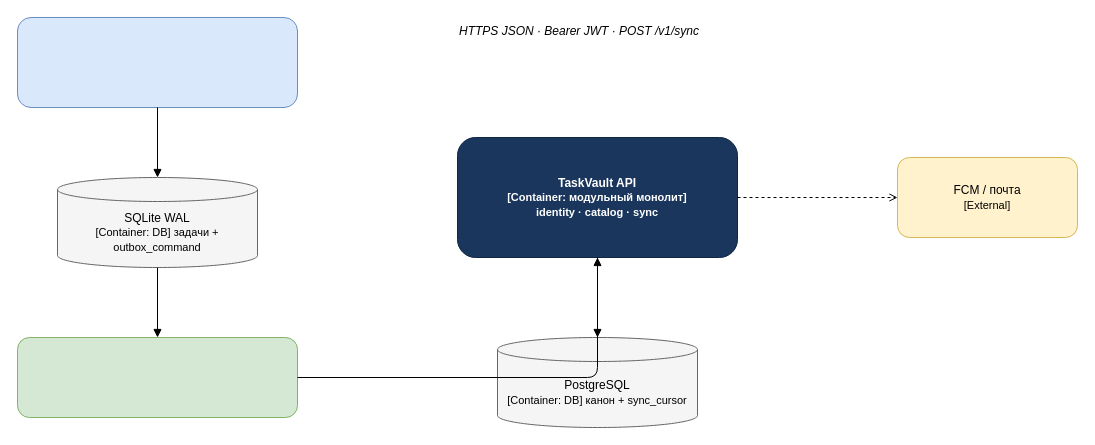
Image size: 1095x445. Some labels were removed from this diagram. The shapes that lost their labels are listed below. From the top down, each one's centre as x and y in pixels, then its label:
the point at 157,62: Мобильный / desktop клиент [Container: Flutter/KMP] UI читает только SQLite
the point at 157,377: Sync worker [Component] шлёт пачку UUID-команд
